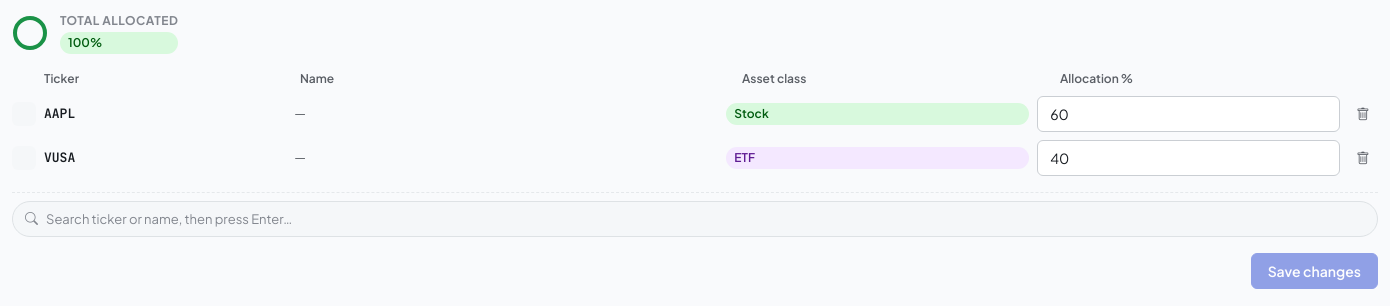
Scenario: AllocationEditor › keeps save disabled while the total isn't 100%, and flags it as over once above
This screenshot has width=1390, height=306.
Replace the text in the number field named "Allocation percent" in the row of "Stock" with "70" at (1189, 114), box [1037, 96, 1340, 132]
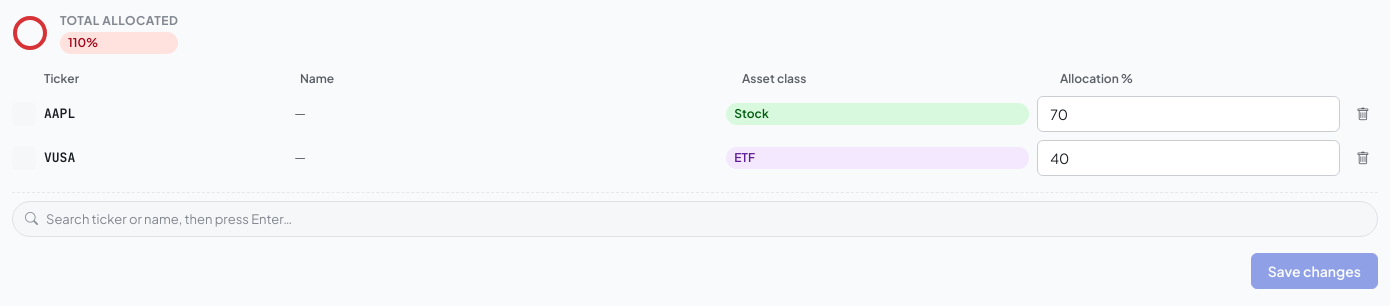
Check: the button "Save changes" is disabled, box [1251, 253, 1378, 289]
Check: the text "110%" is shown, box [60, 32, 178, 54]
Check: the picture named "110% allocated, over 100%" is shown, box [12, 15, 48, 51]
